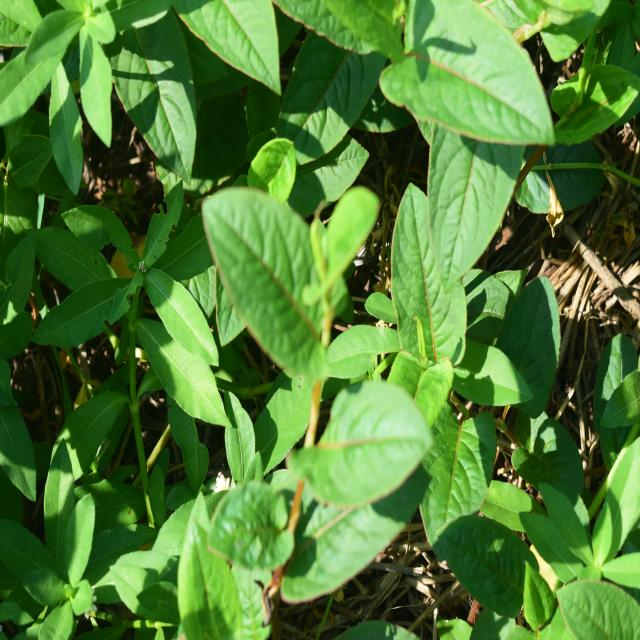Chinese_knotweed: (358, 135, 528, 538)
